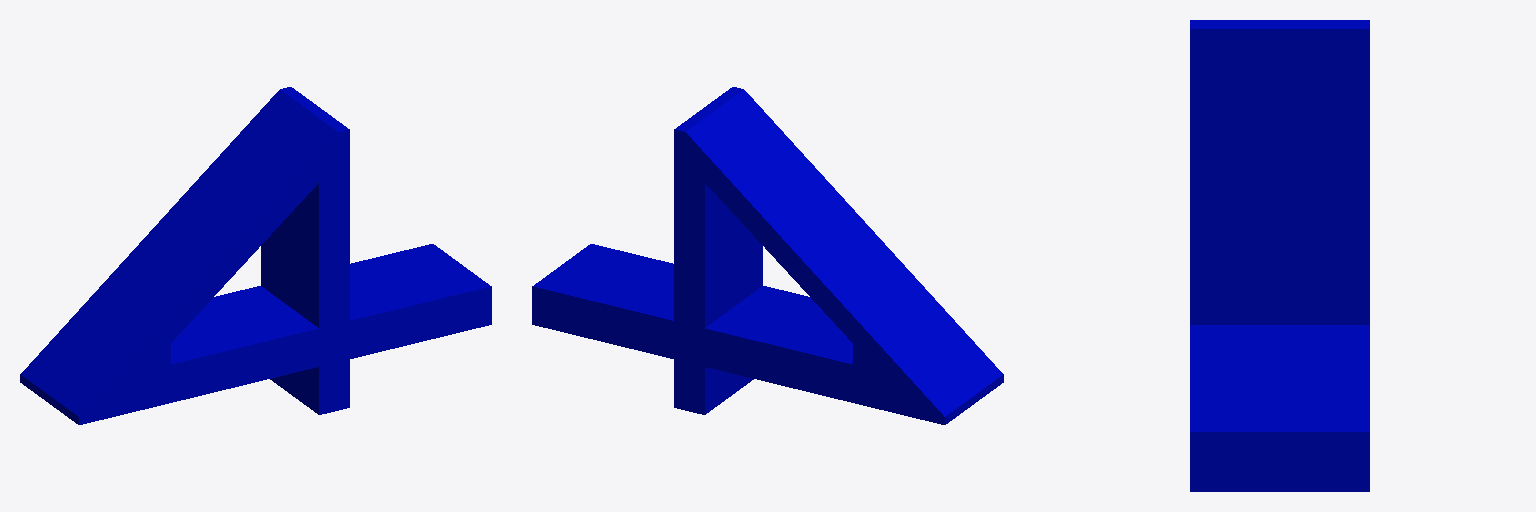
robot.urdf — ring:
<?xml version="0.0" ?>
<robot name="ring">
    <material name="blue">
        <color rgba="0.006995 0.054480 0.799103 1"/>
    </material>

    <link name="baseLink">
        <!-- from lego/lego.urdf -->
        <contact>
            <lateral_friction value="1.0"/>
            <rolling_friction value="0.0"/>
            <contact_cfm value="0.0"/>
            <contact_erp value="1.0"/>
        </contact>
        <inertial>
            <origin rpy="0 0 0" xyz="0 0 0"/>
            <mass value="0.5"/>
            <inertia ixx="1" ixy="0" ixz="0" iyy="1" iyz="0" izz="1"/>
        </inertial>
        <visual>
            <origin rpy="0 0 0" xyz="0 0 0"/>
            <geometry>
                <!--        radius: 10mm, depth: 14.5mm-->
                <mesh filename="meshes/4.obj" scale="1 1 1"/>
                <!--        <box size="0.002 0.002 0.002"/>-->
            </geometry>
            <material name="blue"/>
        </visual>
        <collision>
            <origin rpy="0 0 0" xyz="0 0 0"/>
            <geometry>
                <mesh filename="meshes/4_vhacd.obj" scale="1 1 1"/>
                       <!-- <box size="0.002 0.002 0.002"/> -->
            </geometry>
        </collision>
    </link>

</robot>

--- What the picture shows (computed from the rendered views, not written in the file) ---
3 views of the same robot in one strip: view 1: azimuth 30°, elevation 25°; view 2: azimuth 150°, elevation 25°; view 3: azimuth 270°, elevation 25° (orthographic).
Robot: ring — 1 links, 0 joints (none); root link baseLink; default pose: every joint at zero.
Links seen in each view (by area): view 1: baseLink; view 2: baseLink; view 3: baseLink.
Boxes of the visible links, x1,y1,x2,y2 form: baseLink: [20, 87, 491, 424]; baseLink: [532, 87, 1003, 424]; baseLink: [1190, 20, 1369, 491].
Bounding box of the posed robot: 2.6 × 0.64 × 1.68 m (x, y, z).
1 mesh visuals loaded from 1 distinct referenced files (1 OBJ).